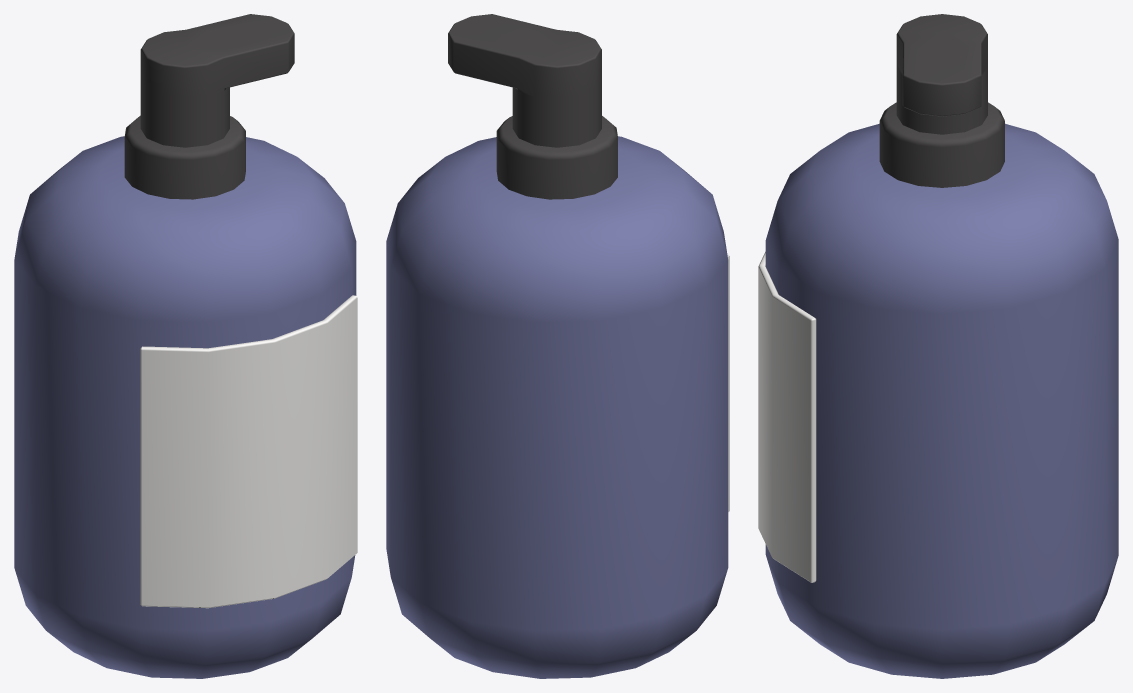
The model's file is Bottle_1.glb.
The picture shows the model from 3 angles, left to right: view 1: azimuth 30°, elevation 25°; view 2: azimuth 150°, elevation 25°; view 3: azimuth 270°, elevation 25°; orthographic projection. The views are drawn at different scales.
Parts seen in each view (by area): view 1: Bottle_20; view 2: Bottle_20; view 3: Bottle_20.
Boxes of the visible parts, left/top/right/bottom form: Bottle_20: left=14, top=14, right=357, bottom=678; Bottle_20: left=386, top=14, right=729, bottom=678; Bottle_20: left=758, top=14, right=1118, bottom=678.
Bounding box in the file's own units: 0.2032 × 0.3819 × 0.2076.
Materials: 1 (1 with a texture image).
